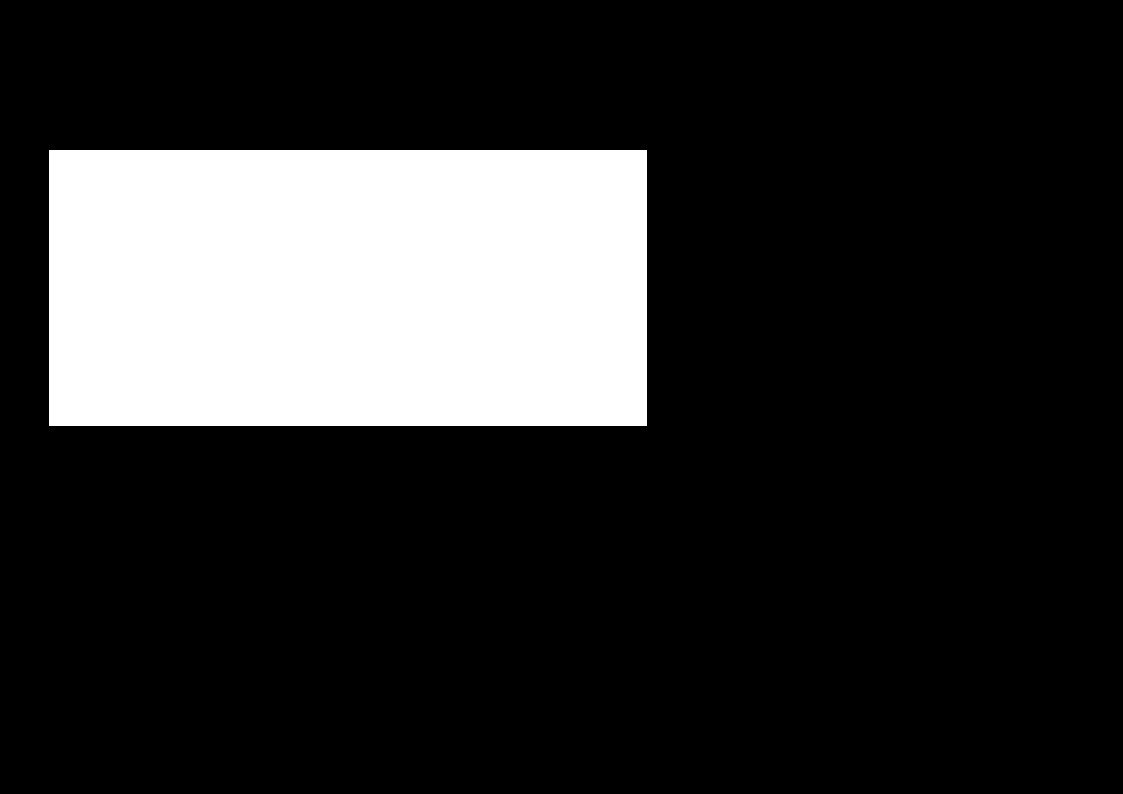table: (49, 150, 646, 425)
